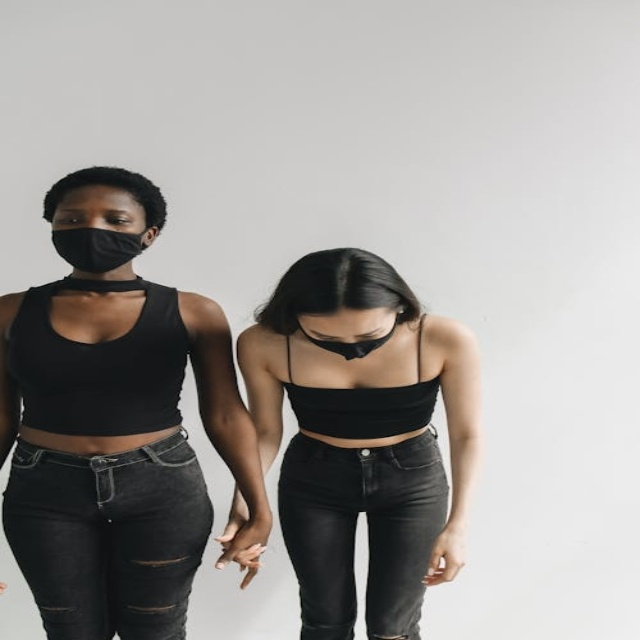Mascara: (297, 314, 401, 361), (50, 227, 150, 272)
Sin_gafas: (49, 207, 134, 225), (302, 323, 387, 340)
Sin_guantes: (214, 509, 275, 595), (422, 525, 462, 588)
